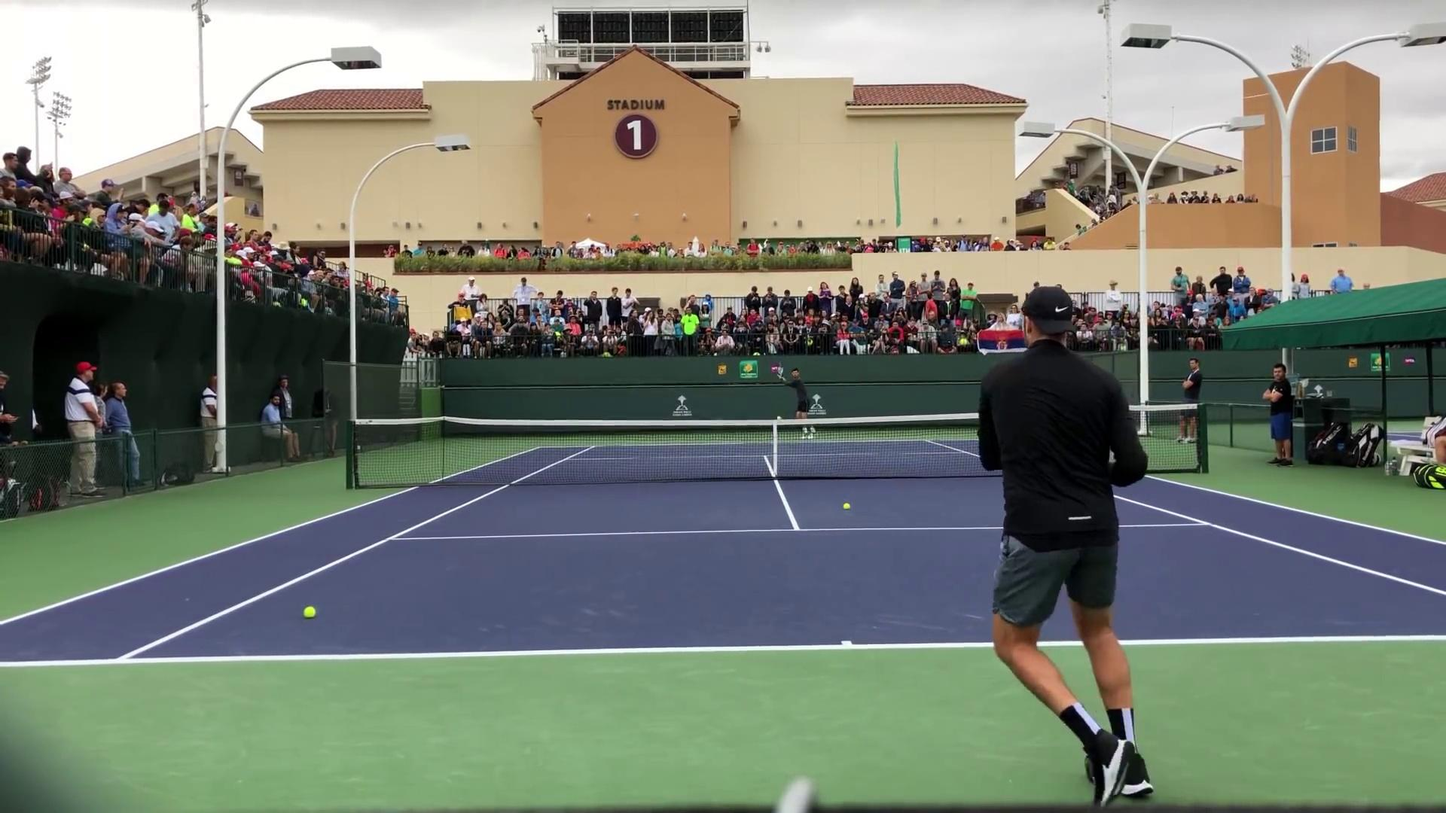ball: (302, 606, 316, 619), (842, 501, 851, 511)
